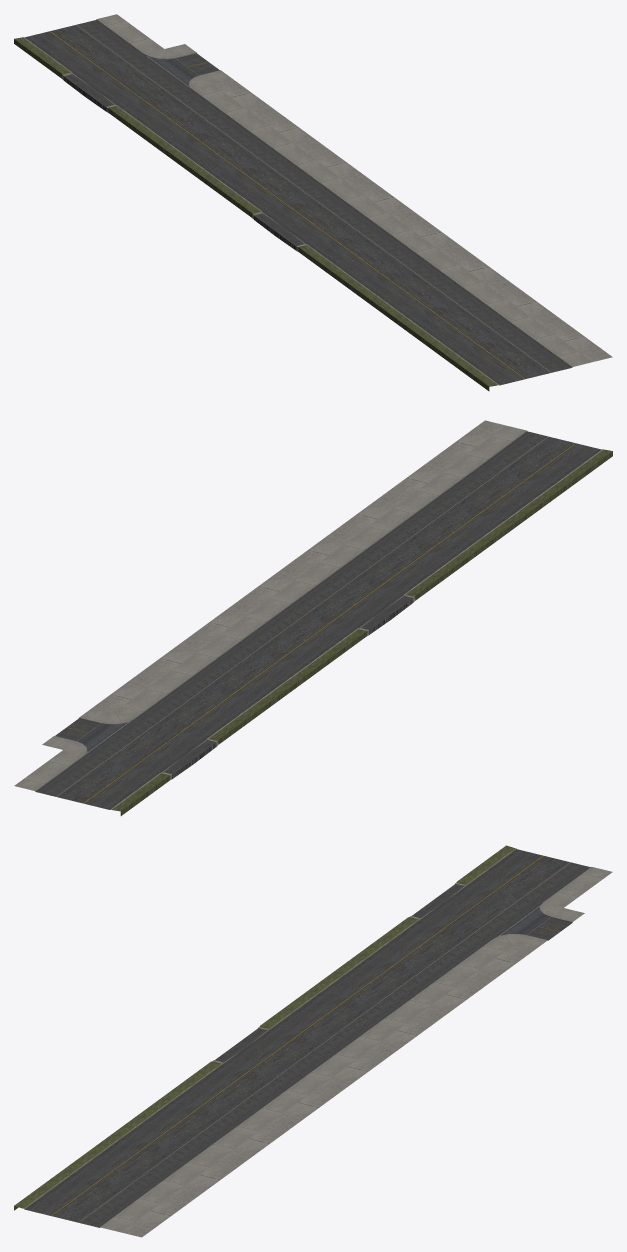
File: vegaseroad036.obj
3 renders of one model, top to bottom at view 1: azimuth 30°, elevation 25°; view 2: azimuth 150°, elevation 25°; view 3: azimuth 330°, elevation 25°, orthographic. The views are drawn at different scales.
Parts seen in each view (by area): view 1: VegasEroad036; view 2: VegasEroad036; view 3: VegasEroad036.
Part boxes in pixels (x1,y1,x2,y2): VegasEroad036: (14,14,612,391); VegasEroad036: (14,420,612,815); VegasEroad036: (14,845,612,1237).
Size of the model in its own units: 30 by 1.41 by 200.
Materials: 12 (12 with a texture image).
